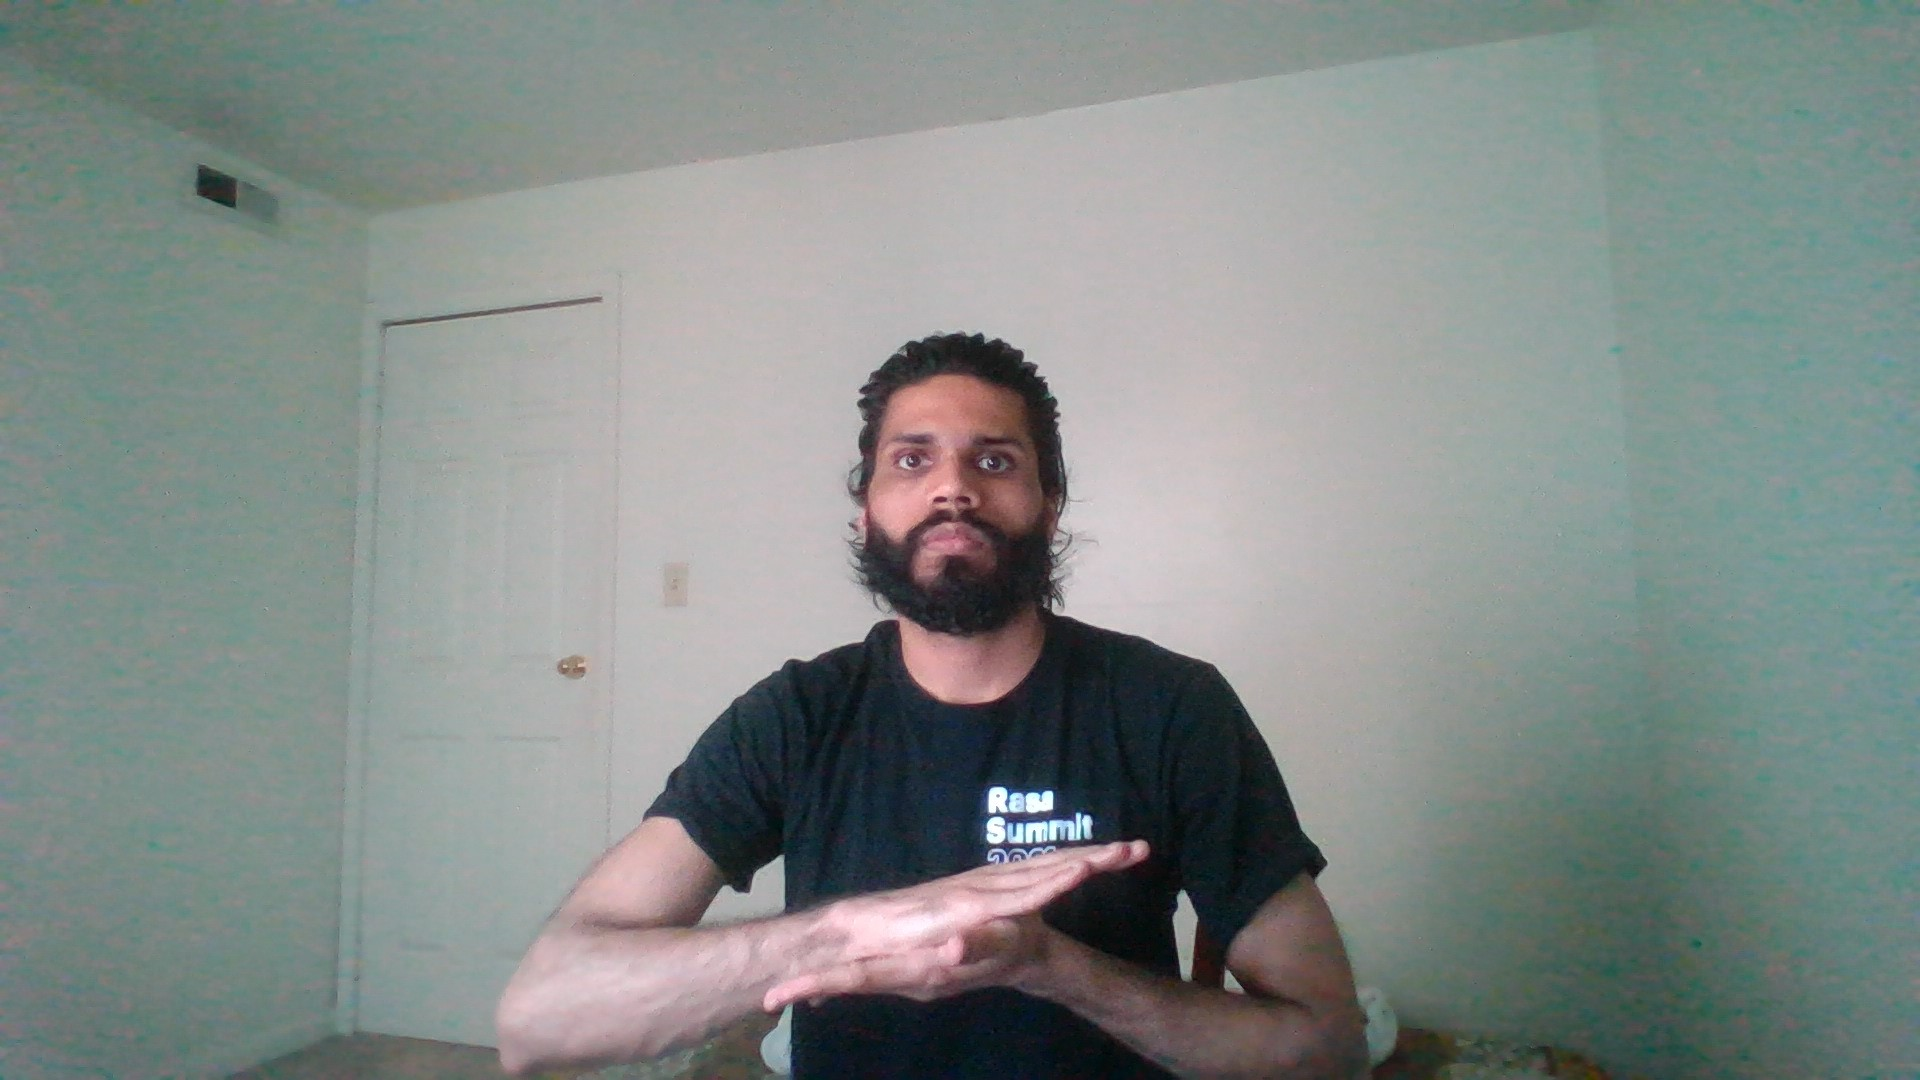Cheese: (733, 791, 1189, 1055)
